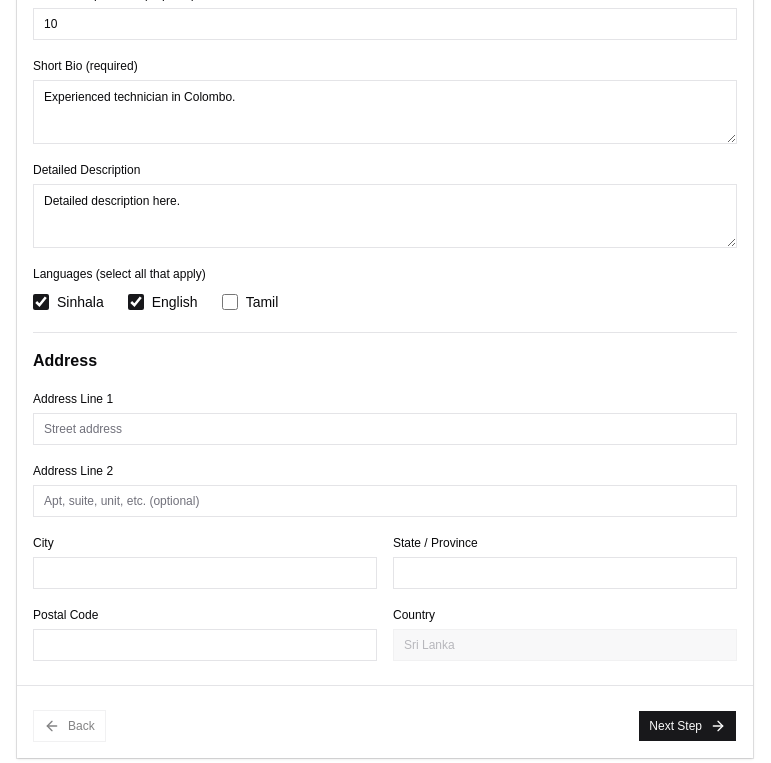
Test: ProviderOnboarding Component › advances to step 1 and validates service listing fields
This screenshot has width=771, height=763.
(page scrolled)
// Click Next Step to move to step 1
Click the button "Next Step": [688, 726] box [638,710,737,742]
(page scrolled)
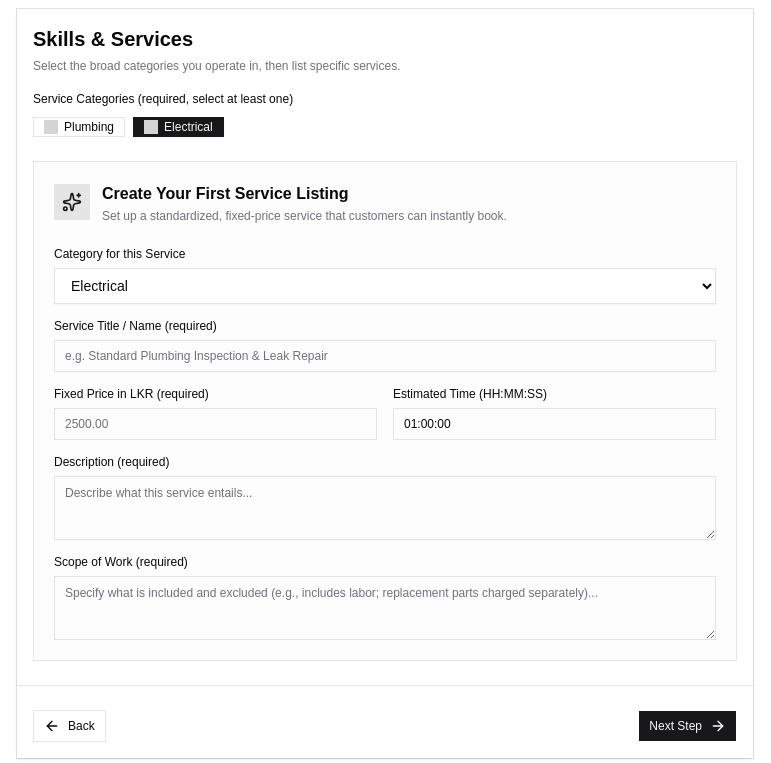
Now the heading "Skills & Services" is shown, box [33,28,193,50]
Now the heading "Create Your First Service Listing" is shown, box [102,184,349,202]
// Clicking Next without filling listing details shows error
Click the button "Next Step": [688, 726] box [638,710,737,742]
(page scrolled)
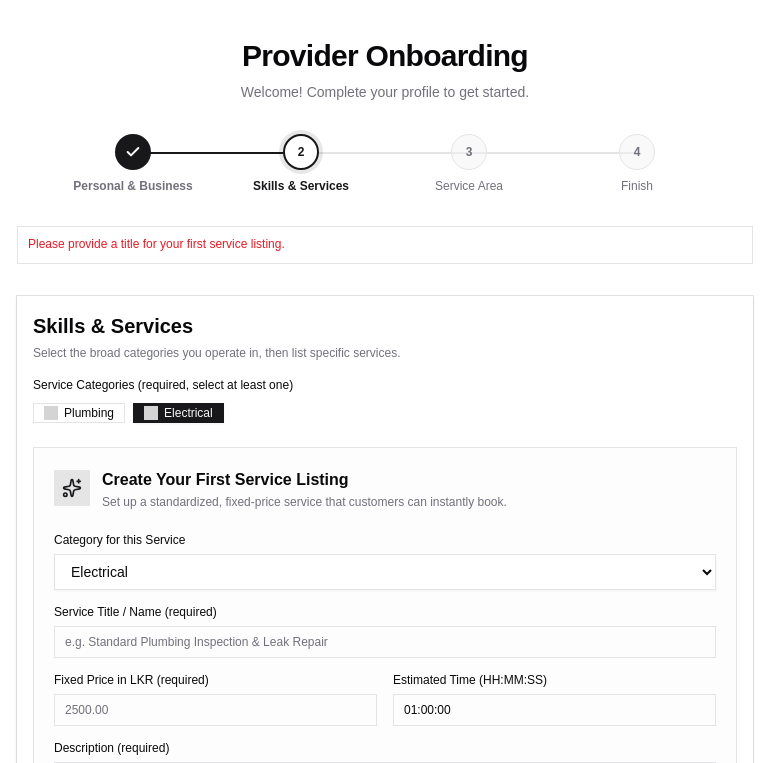
Now the text "Please provide a title for your first service listing." is shown, box [28,237,285,251]
